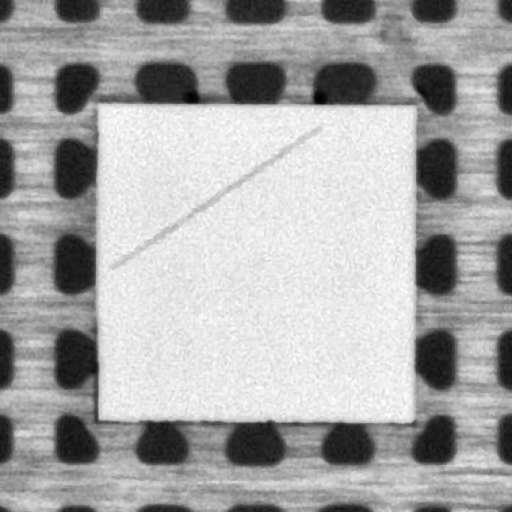DIE_CRACK: (110, 128, 318, 268)
